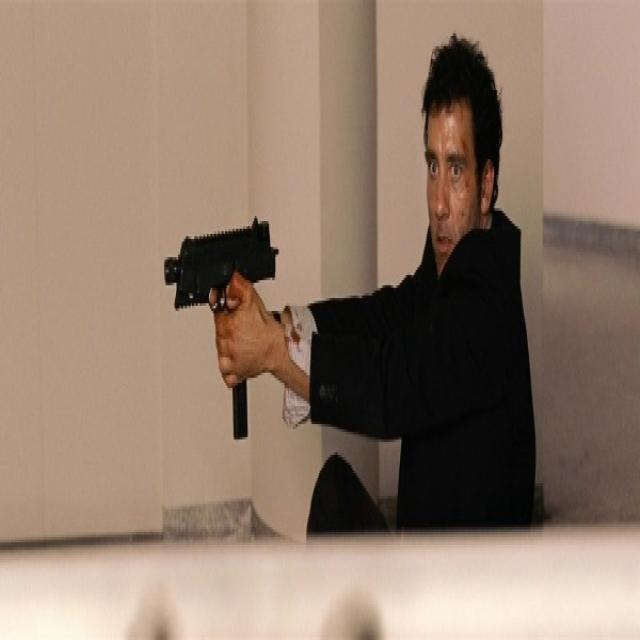weapons: (148, 193, 290, 456)
